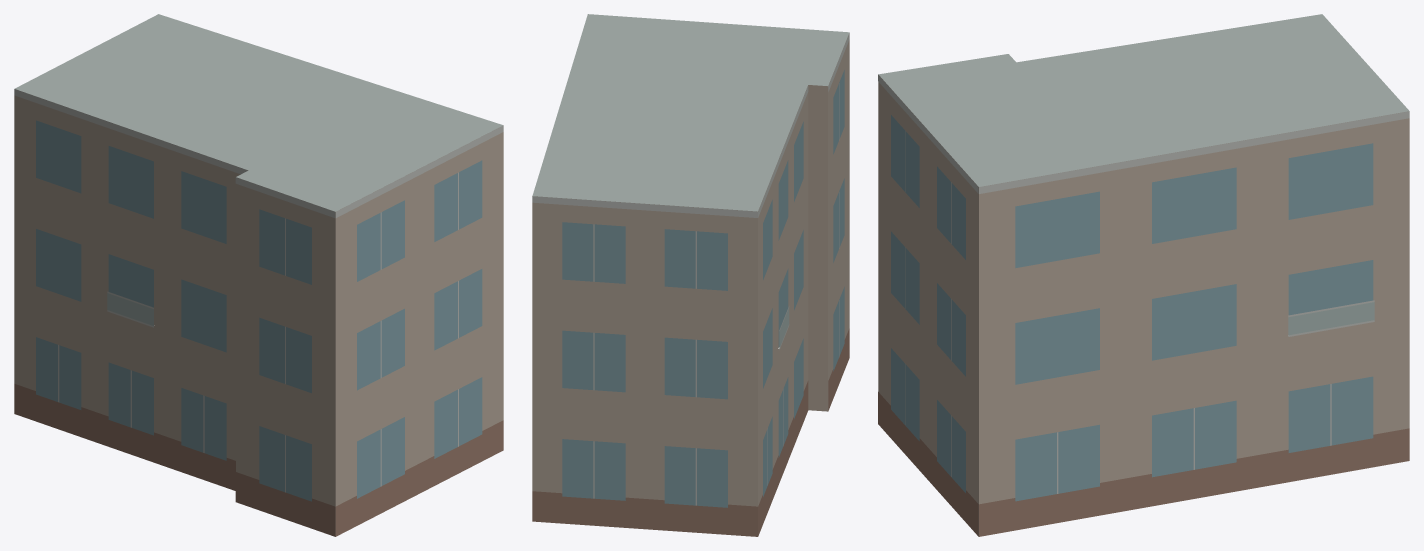
Rendered from survey-upis-32824143.glb.
3 renders of one model, left to right at view 1: azimuth 30°, elevation 25°; view 2: azimuth 150°, elevation 25°; view 3: azimuth 270°, elevation 25°, orthographic. The views are drawn at different scales.
Parts seen in each view (by area): view 1: survey-upis-32824143.tmp; view 2: survey-upis-32824143.tmp; view 3: survey-upis-32824143.tmp.
Boxes of the visible parts, x1,y1,x2,y2 form: survey-upis-32824143.tmp: (14, 14, 503, 536); survey-upis-32824143.tmp: (532, 14, 849, 536); survey-upis-32824143.tmp: (878, 14, 1409, 536).
Bounding box in the file's own units: 12.74 × 12 × 16.53.
